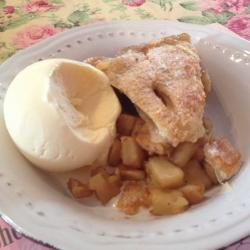apple_pie: (83, 42, 237, 196)
icecream: (2, 56, 124, 176)
